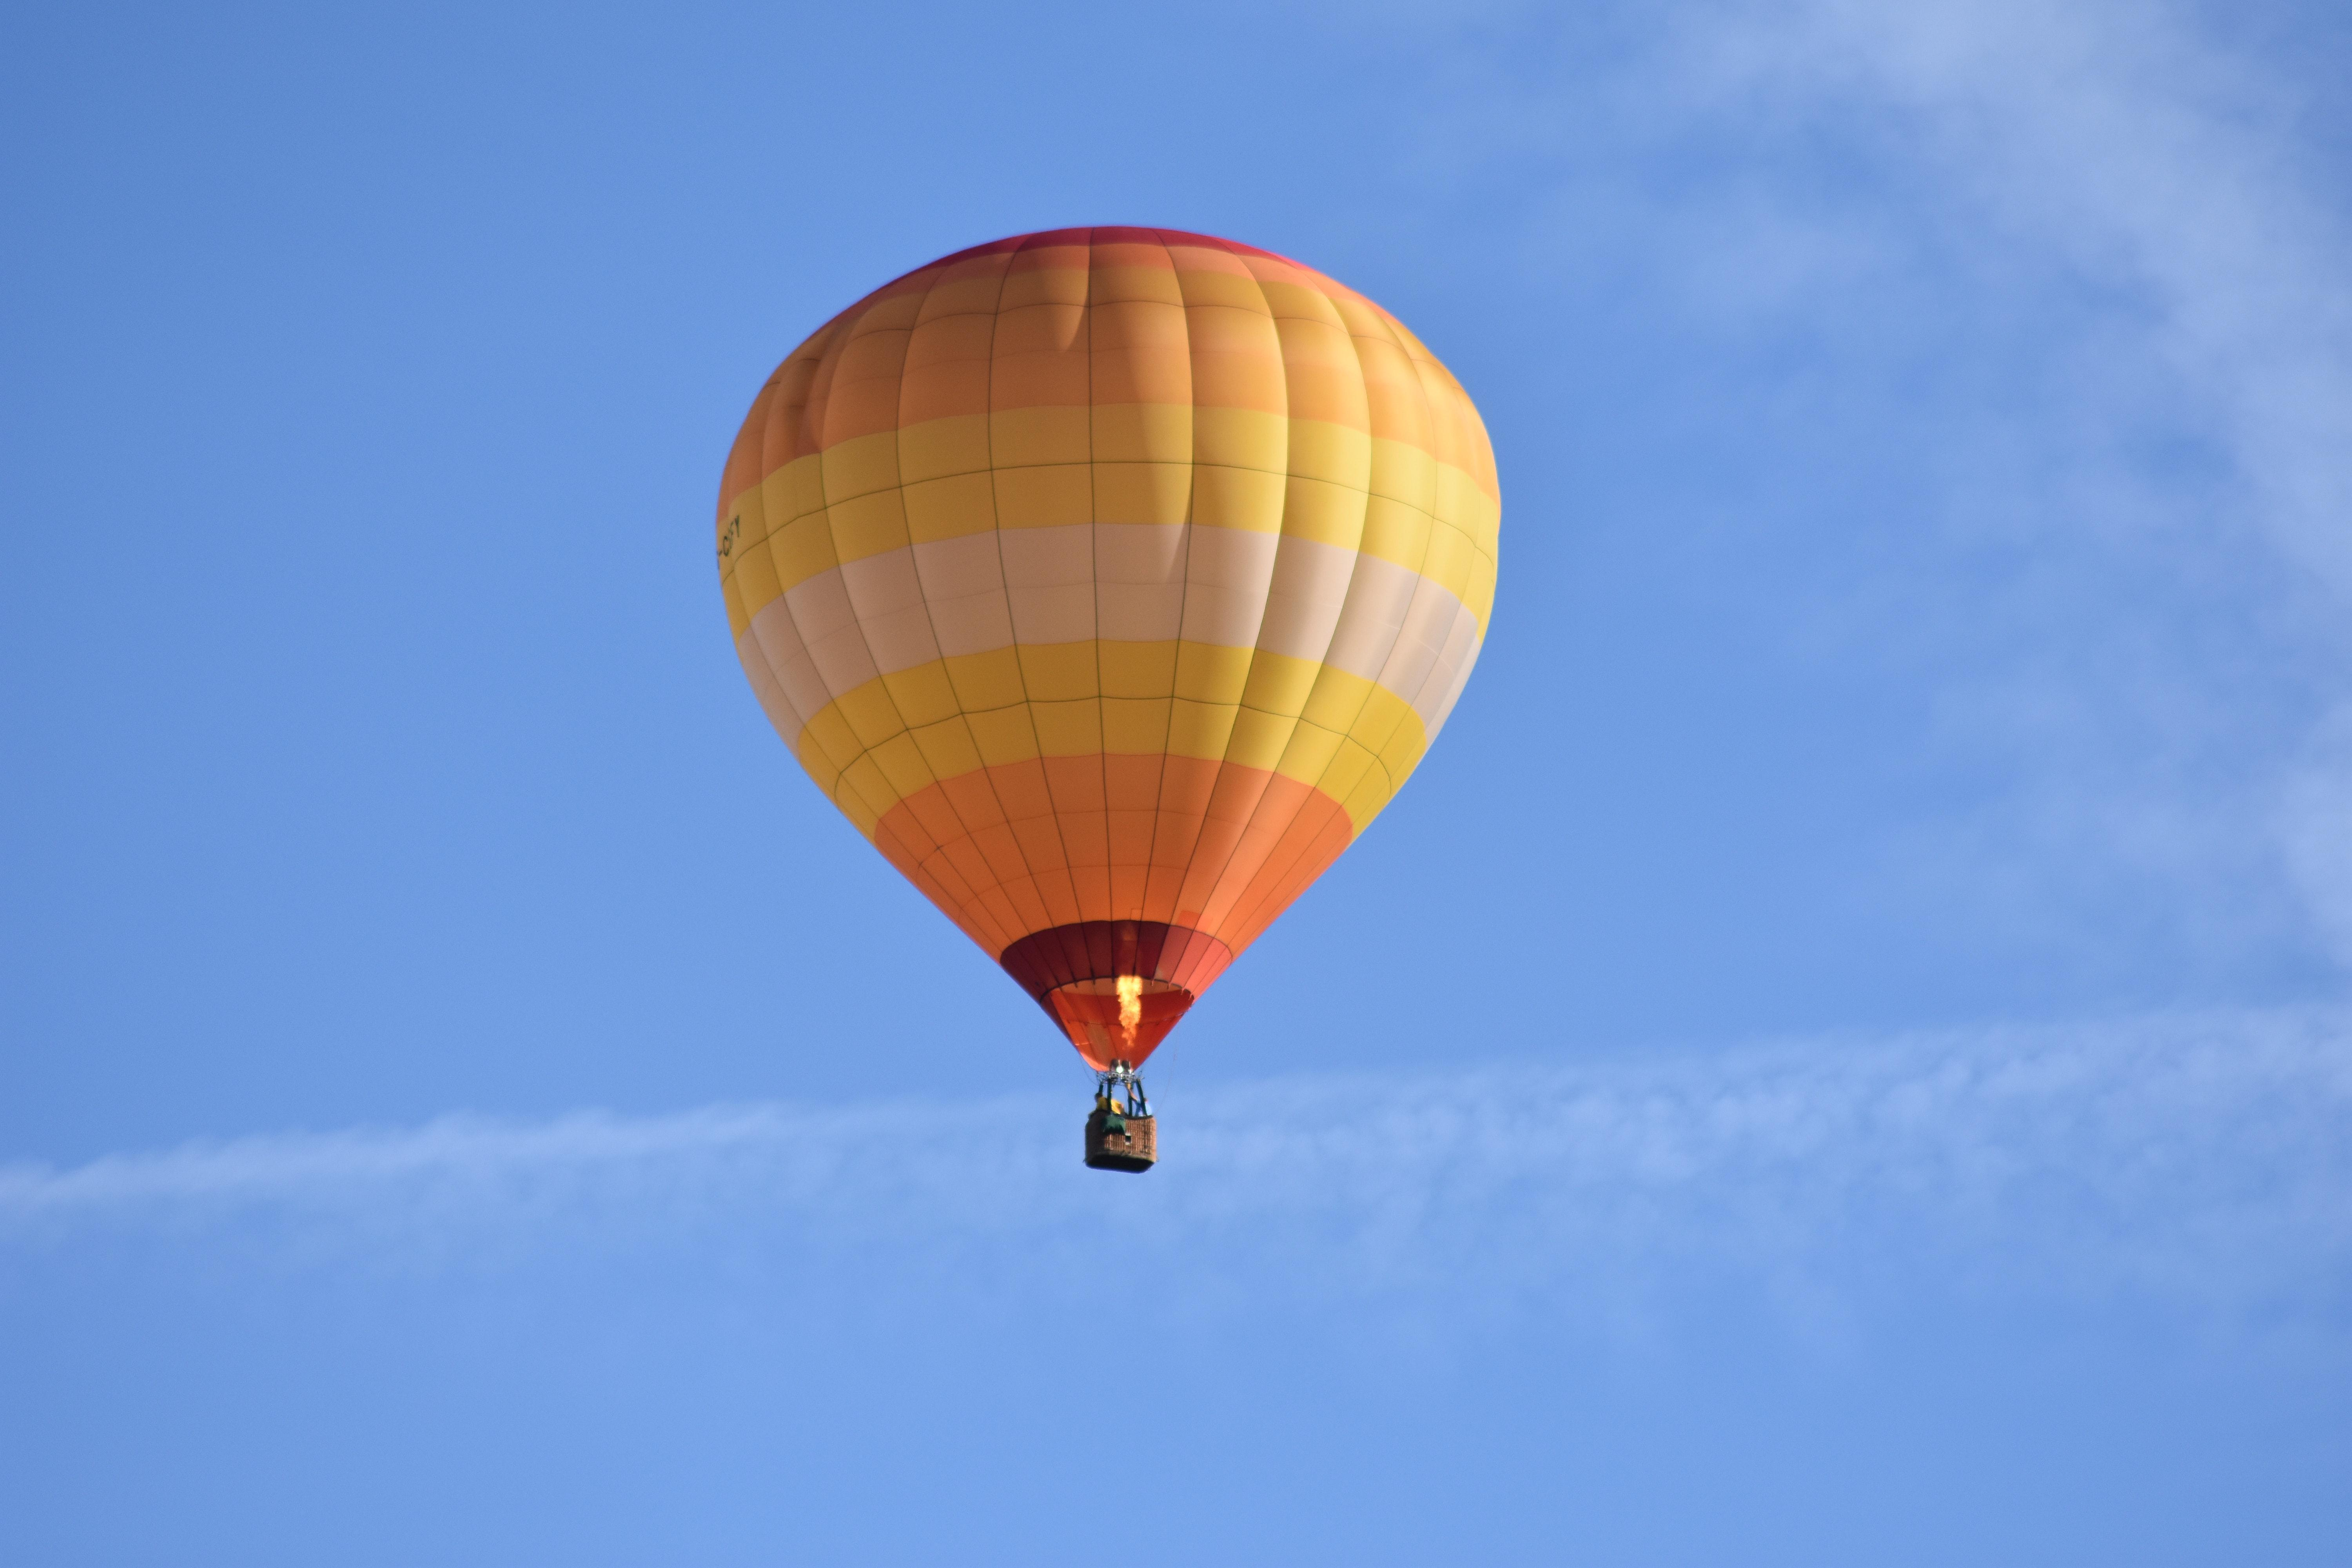hot air ballon: (710, 217, 1508, 1174)
